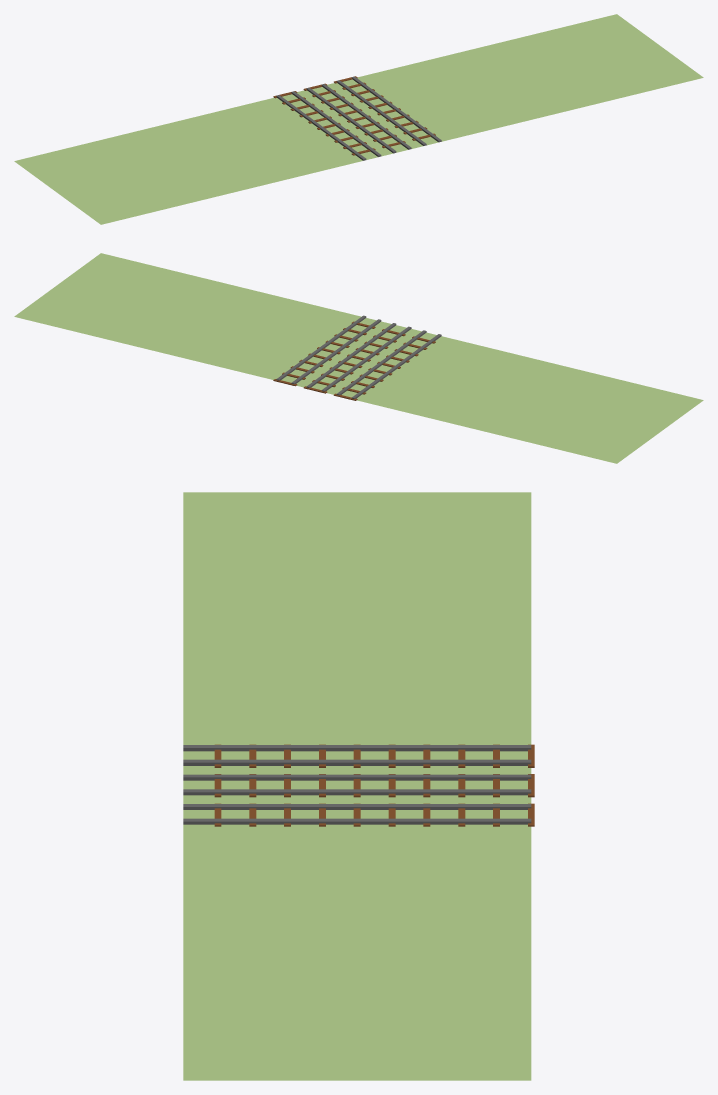
Rendered from Chao.fbx.
The picture shows the model from 3 angles, top to bottom: view 1: azimuth 30°, elevation 25°; view 2: azimuth 150°, elevation 25°; view 3: azimuth 270°, elevation 25°; orthographic projection. The views are drawn at different scales.
Visible parts, largest first — view 1: Chao, Trilho-Direita, Trilho-Esquerda, Trilho-Meio; view 2: Chao, Trilho-Direita, Trilho-Esquerda, Trilho-Meio; view 3: Chao, Trilho-Esquerda, Trilho-Meio, Trilho-Direita.
Part boxes in pixels (x1,y1,x2,y2): Chao: [14, 14, 703, 224]; Trilho-Direita: [334, 76, 441, 145]; Trilho-Esquerda: [273, 91, 381, 160]; Trilho-Meio: [303, 83, 411, 153]; Chao: [14, 253, 703, 463]; Trilho-Direita: [273, 315, 381, 386]; Trilho-Esquerda: [333, 330, 441, 400]; Trilho-Meio: [303, 323, 411, 393]; Chao: [183, 492, 531, 1080]; Trilho-Esquerda: [183, 744, 534, 767]; Trilho-Meio: [183, 774, 534, 797]; Trilho-Direita: [183, 803, 534, 826].
Size of the model in its own units: 4000 by 10 by 1010.
